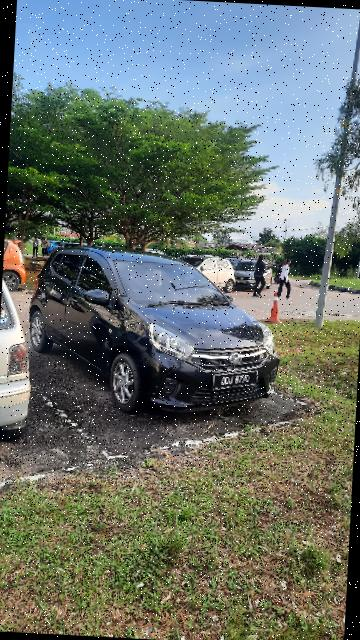License_Plate: (208, 366, 265, 395)
car: (25, 243, 286, 419)
